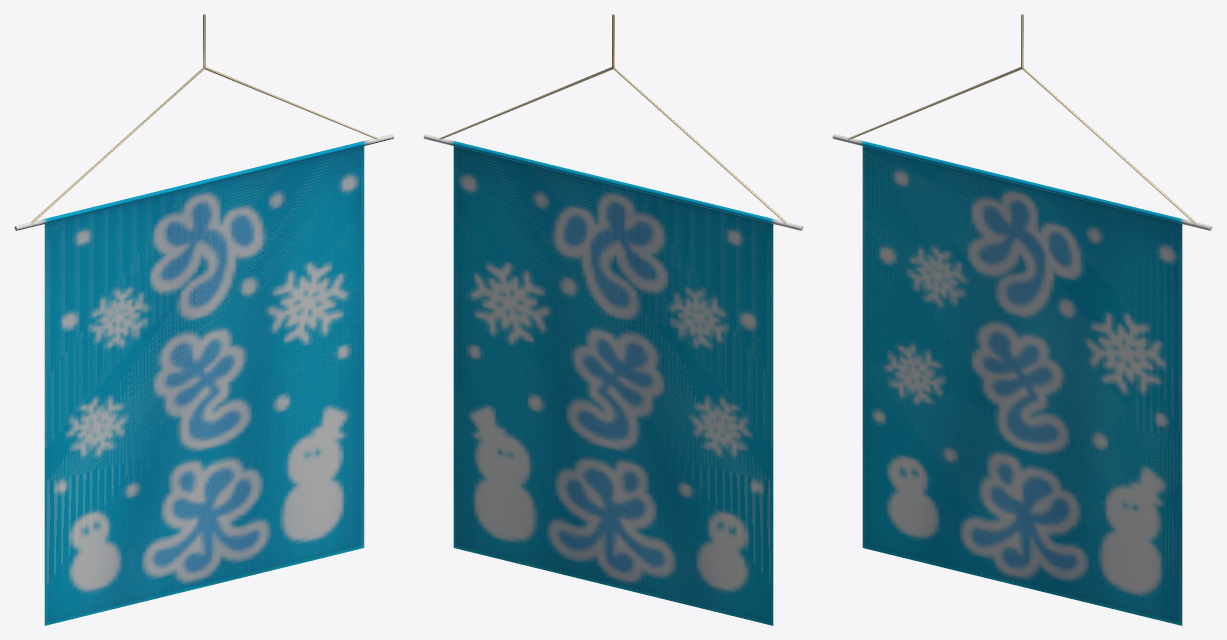
File: jsf_HangingFlag_ShavedIce_02.fbx
The picture shows the model from 3 angles, left to right: view 1: azimuth 30°, elevation 25°; view 2: azimuth 150°, elevation 25°; view 3: azimuth 330°, elevation 25°; orthographic projection.
Visible parts, largest first — view 1: jsf_HangingFlag_ShavedIce_02; view 2: jsf_HangingFlag_ShavedIce_02; view 3: jsf_HangingFlag_ShavedIce_02.
Boxes of the visible parts, x1,y1,x2,y2 form: jsf_HangingFlag_ShavedIce_02: (14, 14, 394, 625); jsf_HangingFlag_ShavedIce_02: (423, 14, 803, 625); jsf_HangingFlag_ShavedIce_02: (832, 14, 1212, 625).
Size of the model in its own units: 58.93 by 85.46 by 0.7791.
